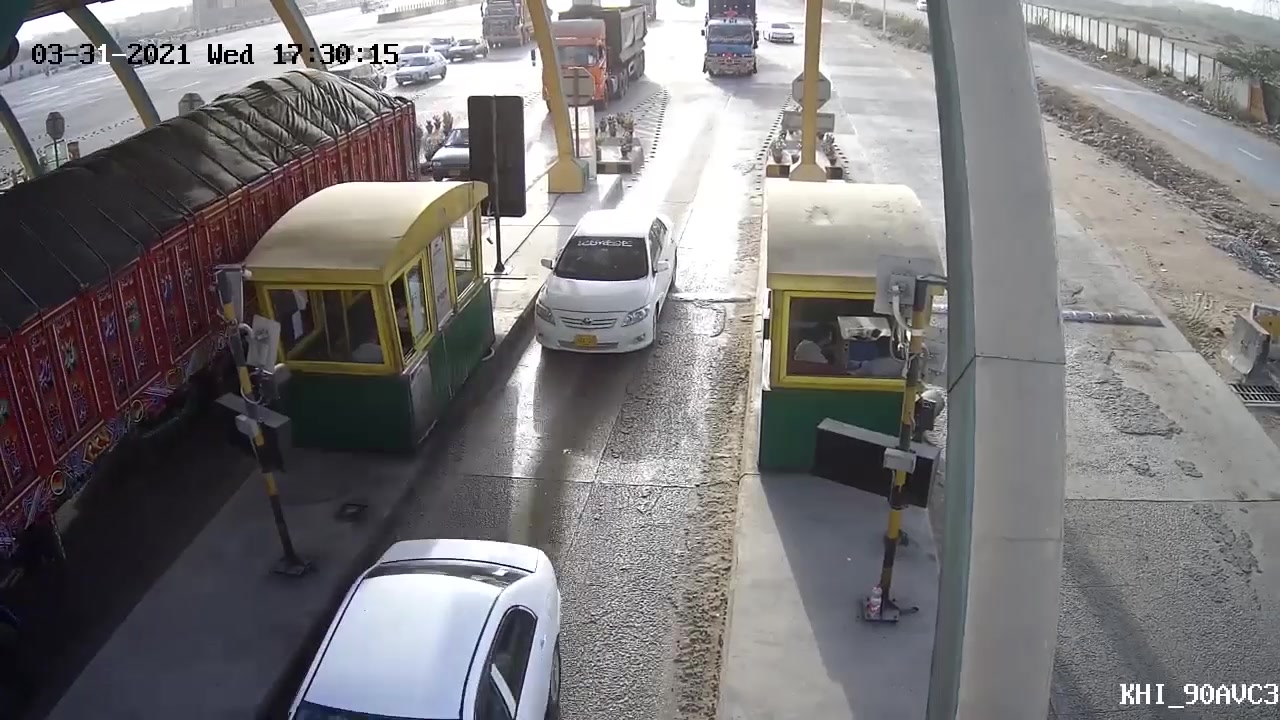F1: (514, 204, 681, 355)
